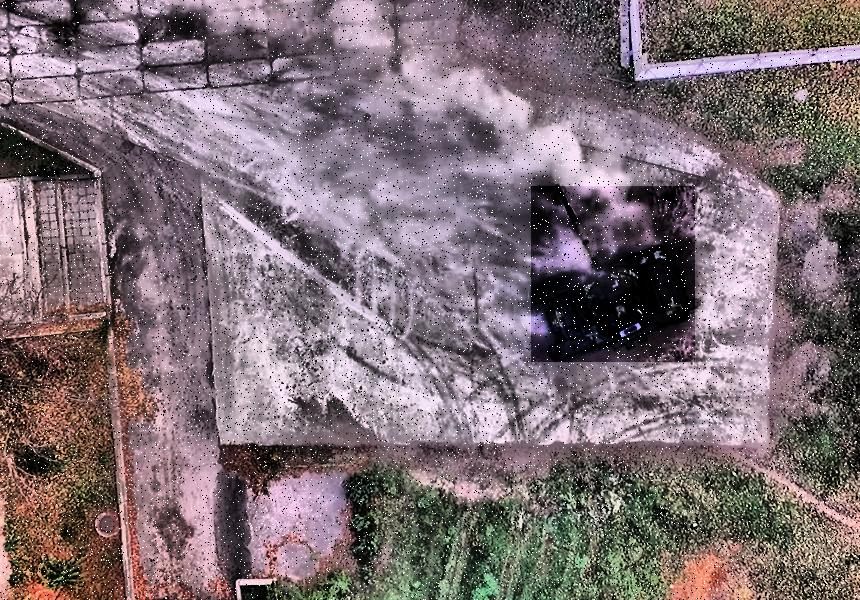military-vehicle: (531, 186, 695, 362)
